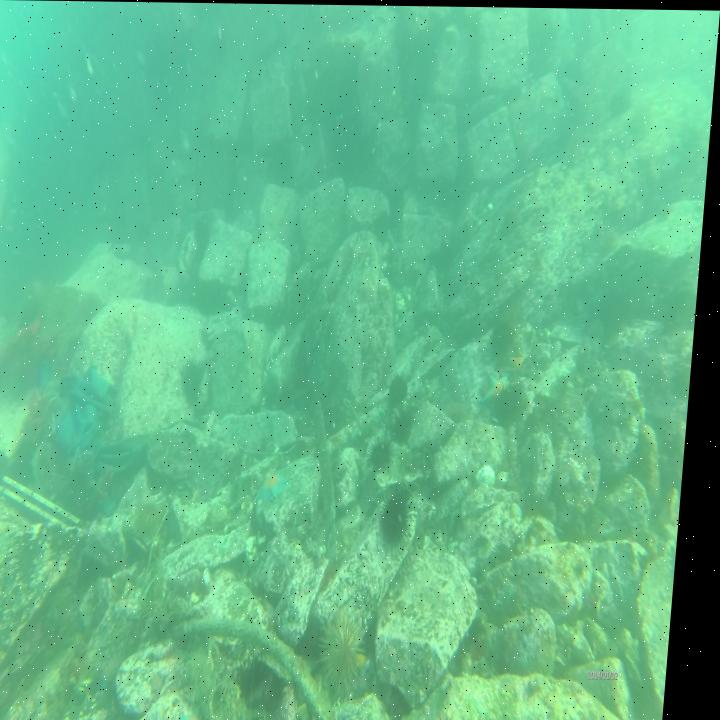echinus: (321, 609, 377, 690), (386, 490, 424, 546), (142, 499, 174, 541), (502, 381, 534, 423), (497, 311, 524, 353), (375, 432, 401, 472), (395, 369, 417, 406), (397, 409, 421, 440)
scallop: (482, 459, 507, 488)
starfish: (260, 467, 299, 504), (487, 368, 521, 405)
